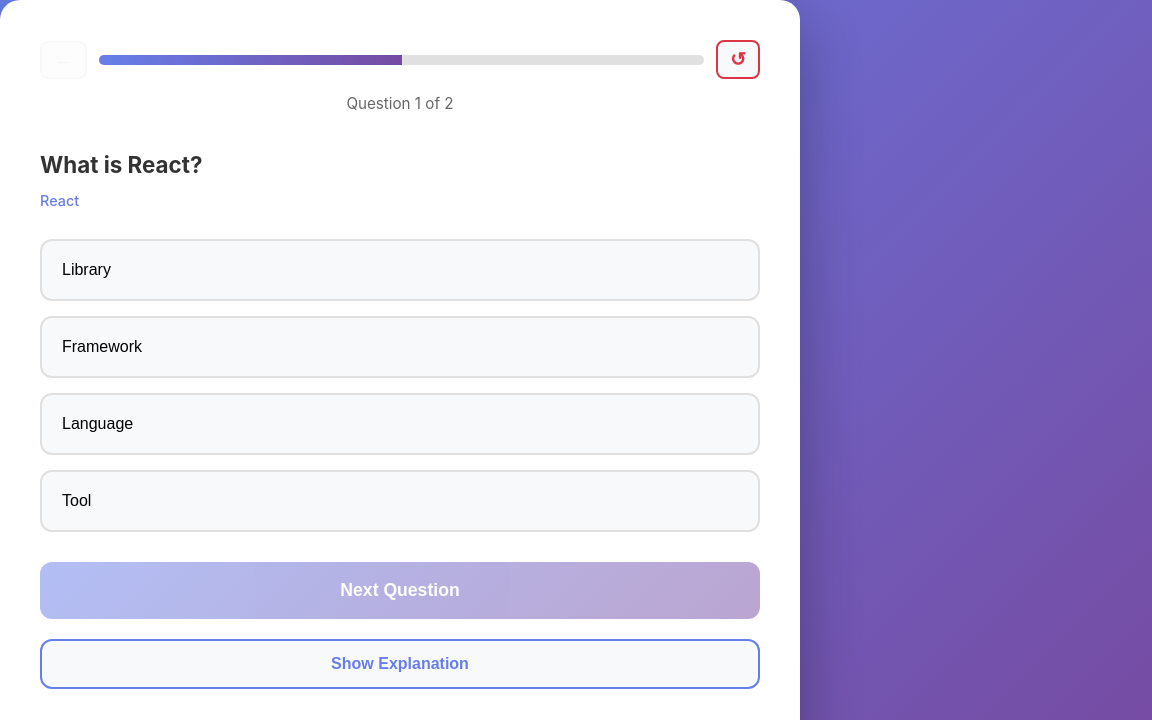
Test: QuizScreen - Show Explanation Feature › should show explanation when "Show Explanation" button is clicked
Click the button "Library". click: click(86, 269)
box: [40,239,760,301]
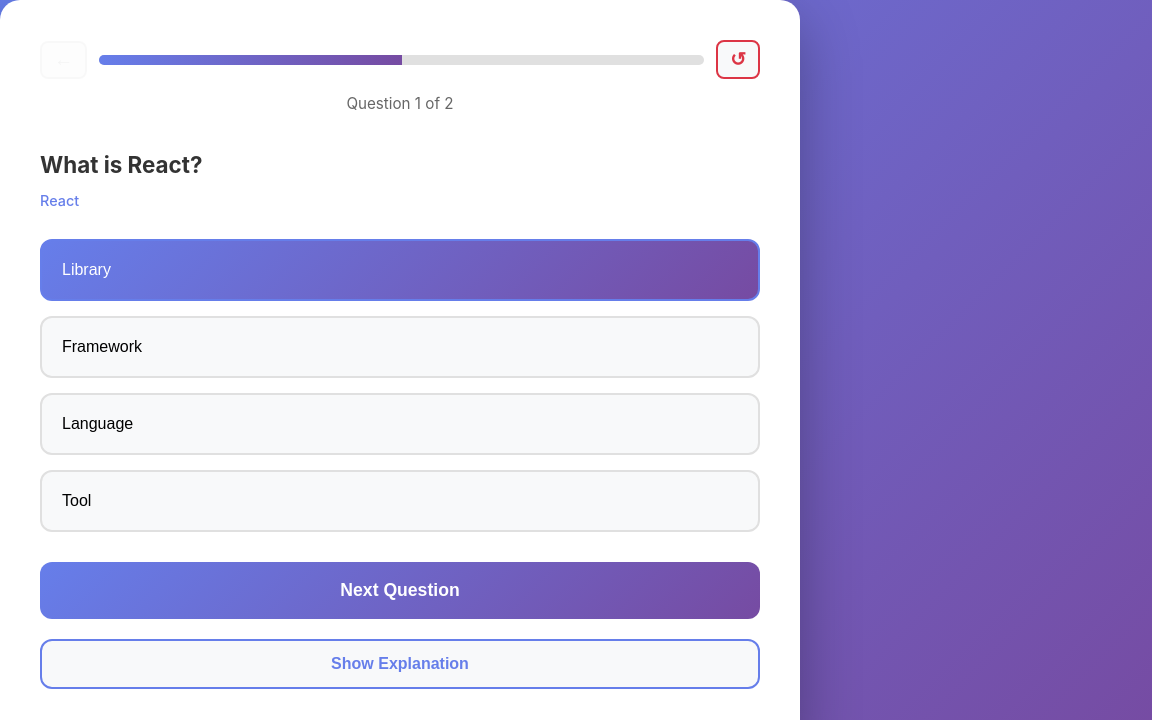
Click "Show Explanation"
Click the button "Show Explanation". click: click(400, 664)
box: [40,639,760,689]
(page scrolled)
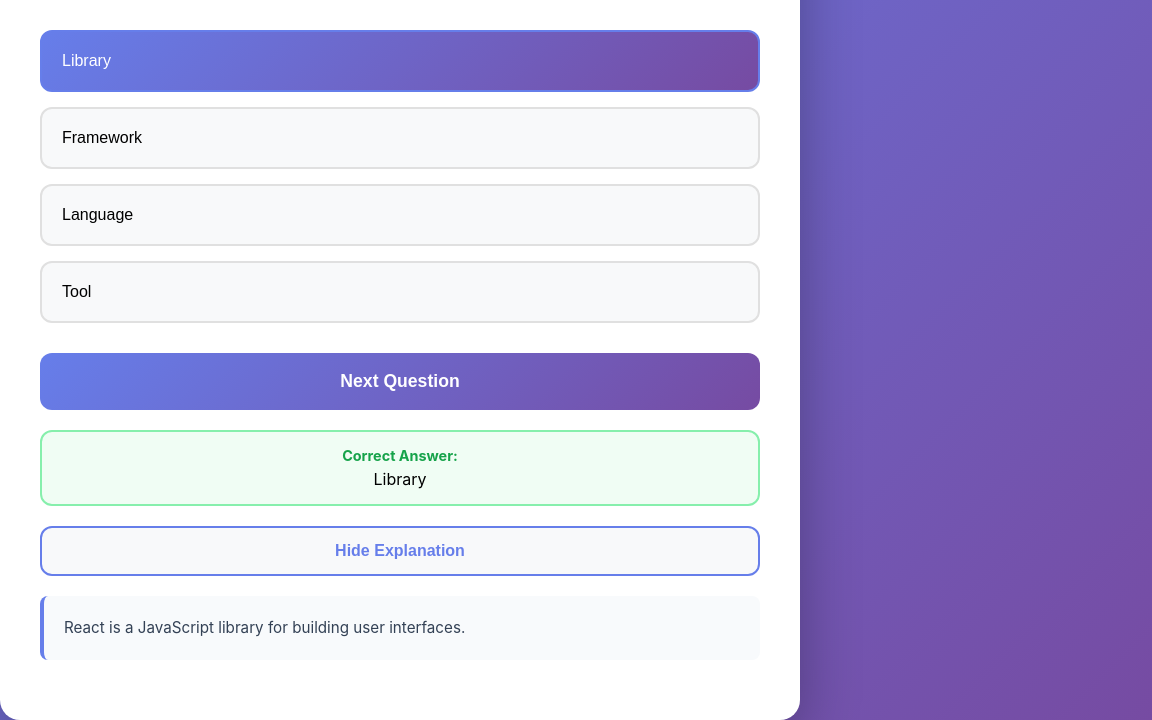
Now the text "React is a JavaScript library for building user interfaces." is shown, box [64,618,465,637]
